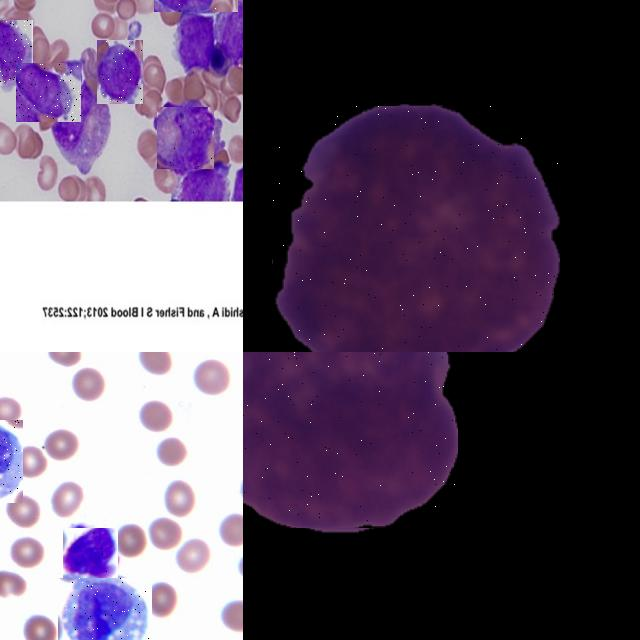ALL Negative Cells: (273, 107, 560, 352), (243, 352, 457, 528)
ALL Positive Cell: (58, 577, 151, 640), (16, 63, 81, 122), (157, 107, 214, 169), (97, 40, 143, 104), (63, 528, 118, 580), (0, 20, 32, 85), (0, 420, 22, 503)
